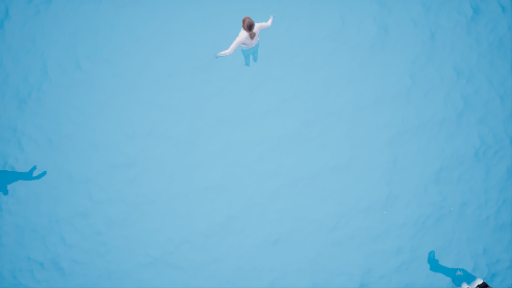person: (213, 8, 274, 70)
